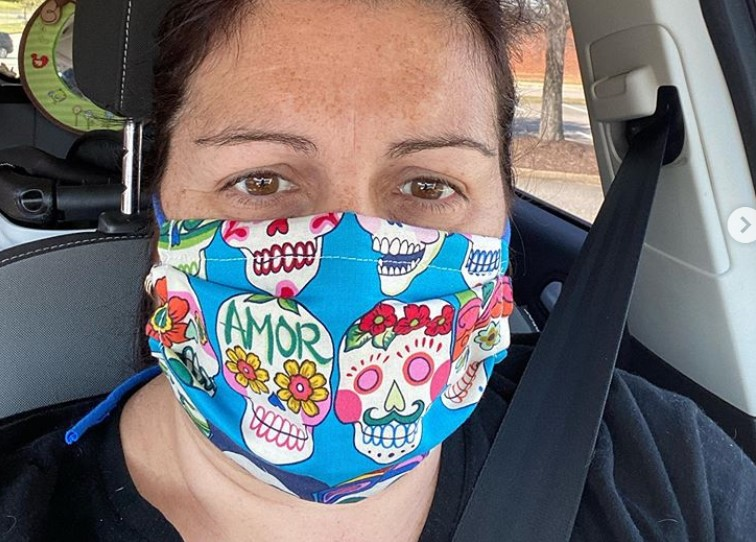face_with_mask: (131, 6, 521, 504)
